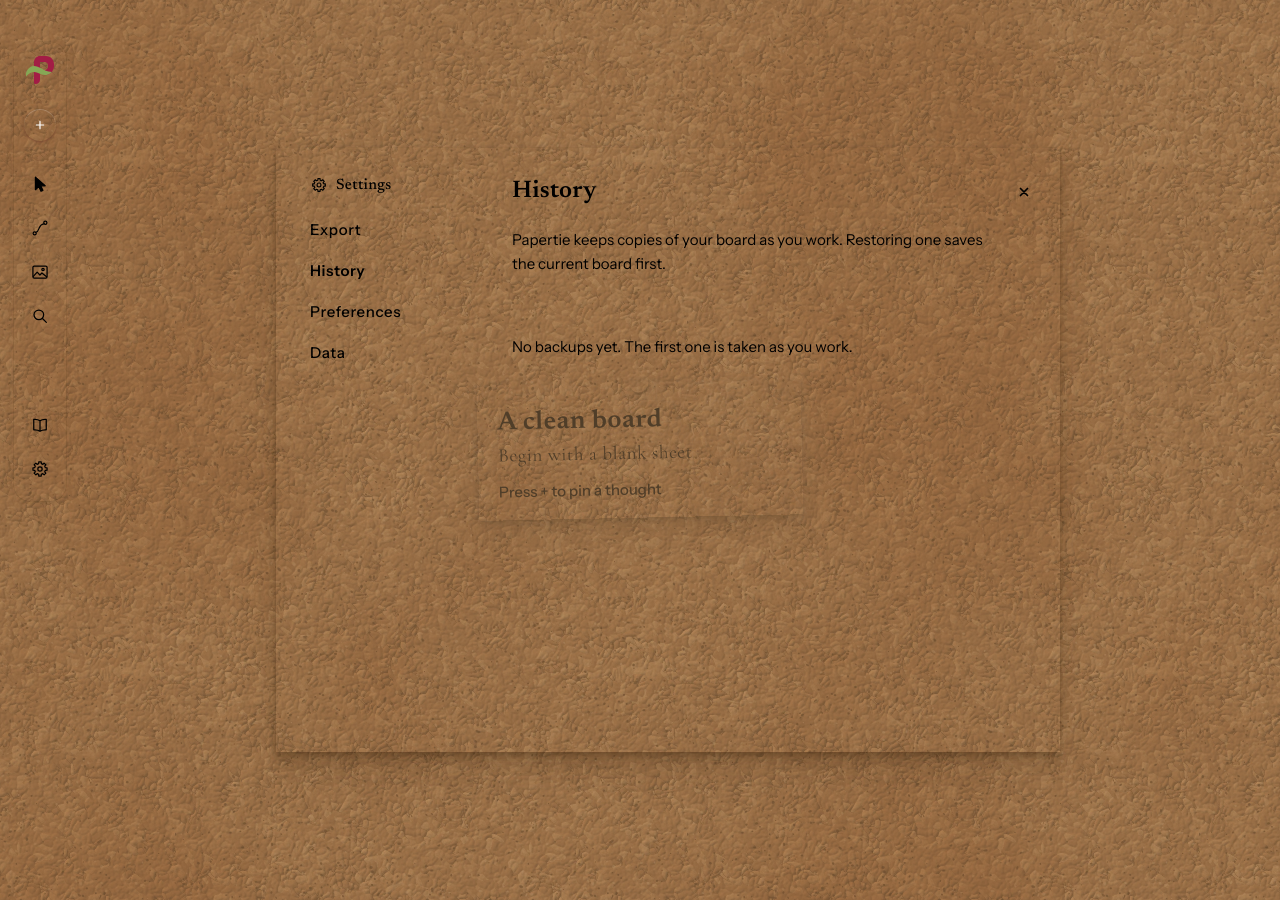
Settings over the board › lies over the dimmed board, keeps it mounted, and Esc returns to /
Check: the dialog "Settings" is shown, box [268,140,1068,760]
Check: the heading "History" is shown, box [512,176,596,208]
Another tab: the board is not opened again.
Click the link "Preferences" at (356, 312), box [310,302,401,321]
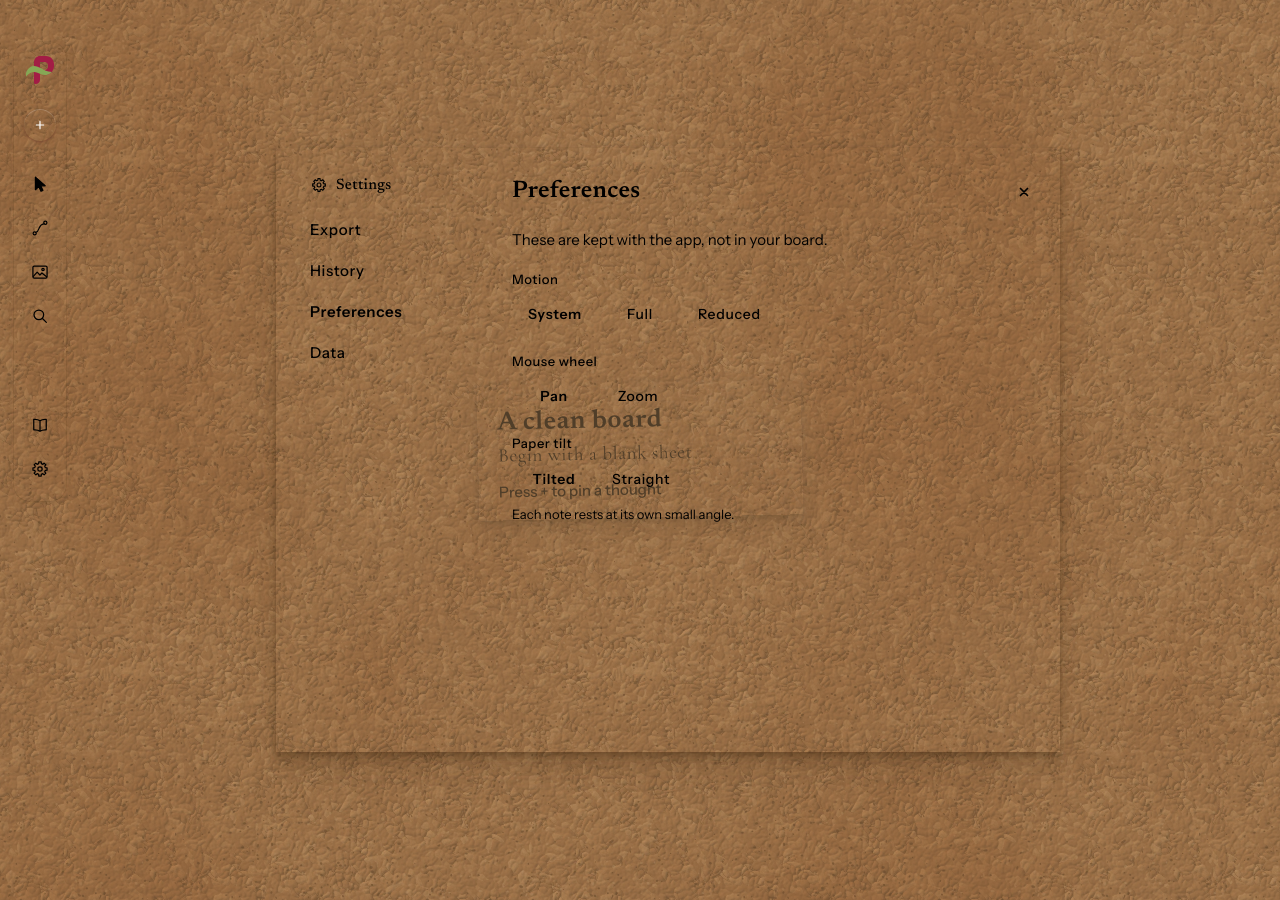
Check: the heading "Preferences" is shown, box [512,176,640,208]
Press Escape
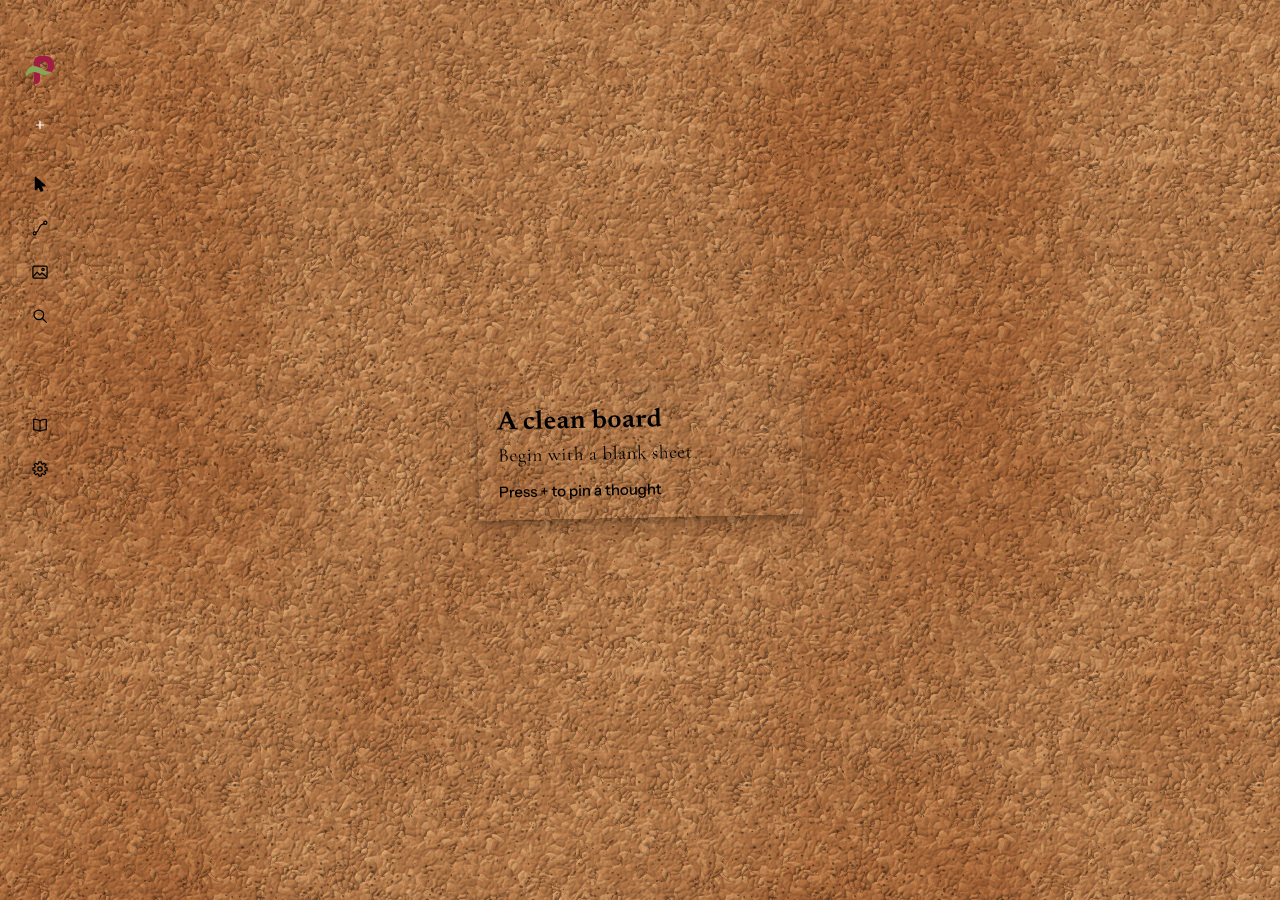
Check: the text "Settings" is gone
